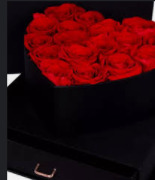RedRose: (102, 52, 141, 81), (60, 42, 97, 62), (42, 60, 72, 83), (74, 63, 105, 84), (27, 13, 57, 34), (53, 29, 89, 45), (33, 45, 62, 64), (89, 36, 117, 55), (133, 45, 155, 68), (114, 33, 141, 51), (45, 6, 75, 22), (24, 33, 52, 49), (57, 20, 87, 33), (75, 12, 104, 25)
